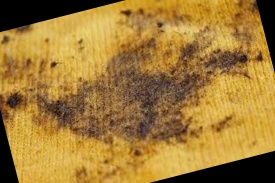earth: (61, 65, 206, 137), (125, 113, 191, 148), (111, 49, 148, 83), (206, 46, 249, 74), (37, 95, 64, 130), (176, 43, 203, 64), (5, 91, 26, 111)
